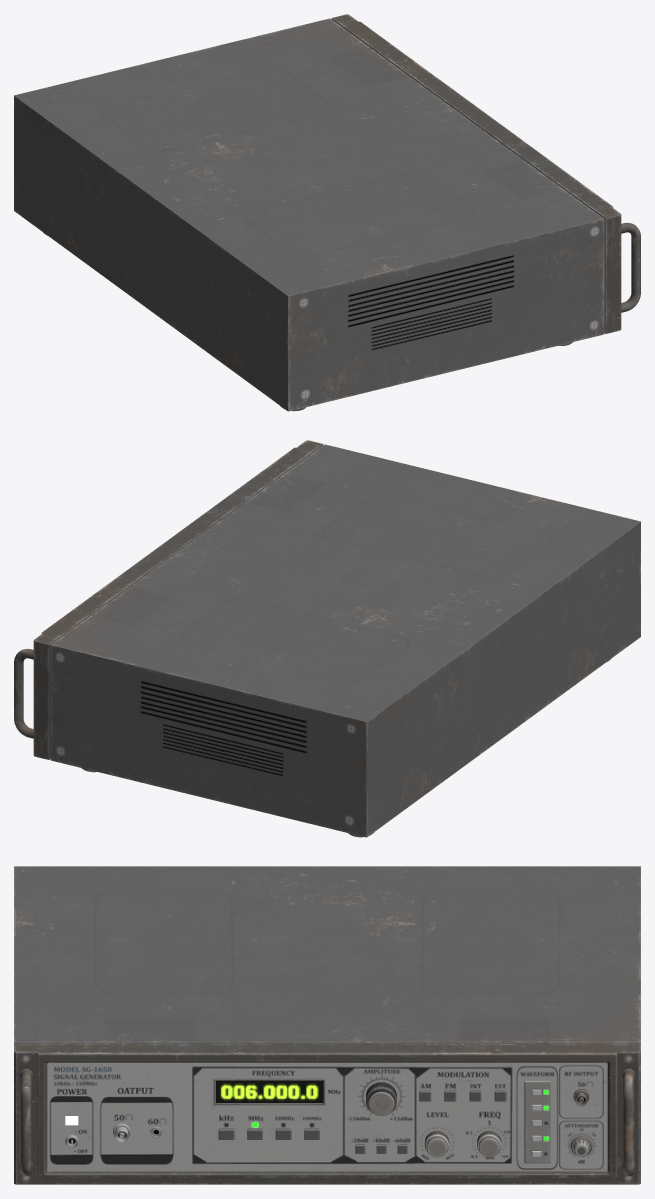
Rendered from signal_generator.glb.
3 renders of one model, top to bottom at view 1: azimuth 30°, elevation 25°; view 2: azimuth 150°, elevation 25°; view 3: azimuth 270°, elevation 25°, orthographic. The views are drawn at different scales.
Size of the model in its own units: 0.3853 by 0.1331 by 0.5117.
Materials: 1 (1 with a texture image).
